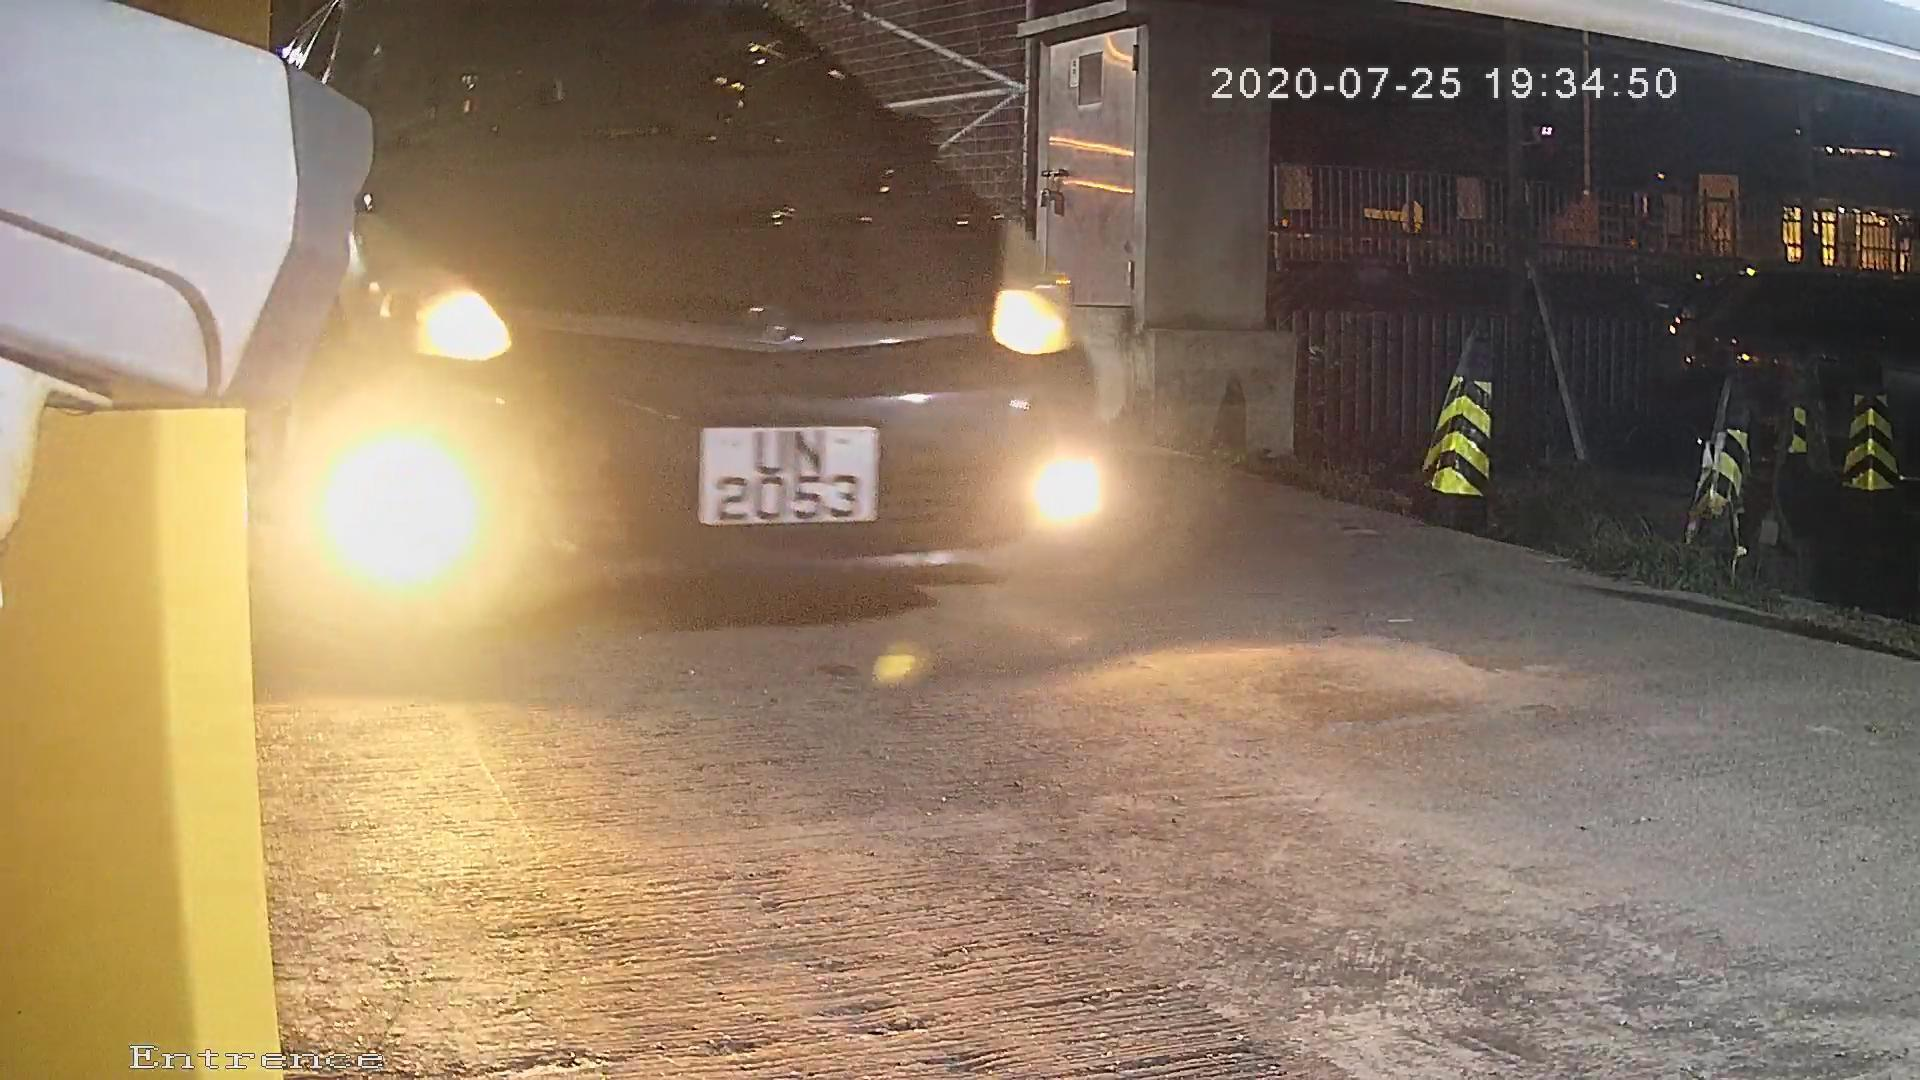privatecar: (276, 44, 961, 613)
